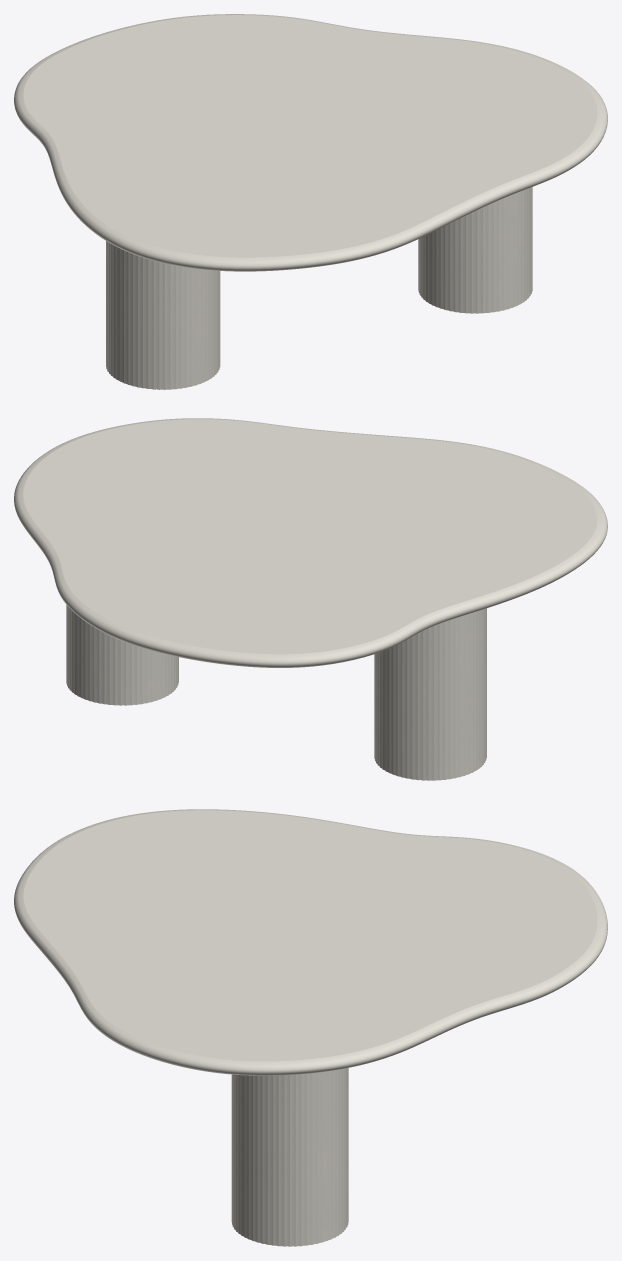
The model's file is pale_topone_round_ripplesecond.glb.
3 views of the same model, one above another, from view 1: azimuth 30°, elevation 25°; view 2: azimuth 150°, elevation 25°; view 3: azimuth 270°, elevation 25° (orthographic). The views are drawn at different scales.
Parts seen in each view (by area): view 1: round_topone, ripplesecond; view 2: round_topone, ripplesecond; view 3: round_topone, ripplesecond.
Part boxes in pixels (left/top/right/bottom): round_topone: left=14, top=14, right=607, bottom=271; ripplesecond: left=106, top=187, right=532, bottom=389; round_topone: left=14, top=418, right=607, bottom=667; ripplesecond: left=66, top=605, right=486, bottom=780; round_topone: left=14, top=809, right=607, bottom=1075; ripplesecond: left=231, top=1068, right=348, bottom=1246.
Bounding box in the file's own units: 6.83 × 2.5 × 6.6.
Materials: 1 (1 with a texture image).
